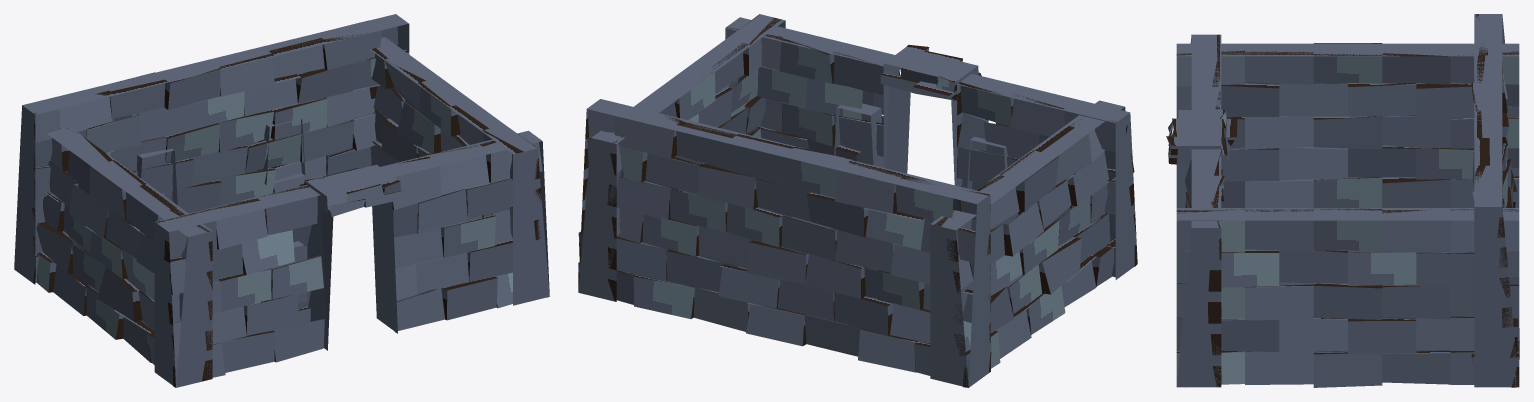
File: RUI-01_Recinto.gltf
3 renders of one model, left to right at view 1: azimuth 30°, elevation 25°; view 2: azimuth 150°, elevation 25°; view 3: azimuth 270°, elevation 25°, orthographic. The views are drawn at different scales.
Visible parts, largest first — view 1: RUI-01_Recinto-col; view 2: RUI-01_Recinto-col; view 3: RUI-01_Recinto-col.
Boxes of the visible parts, x1,y1,x2,y2 form: RUI-01_Recinto-col: (14, 14, 549, 387); RUI-01_Recinto-col: (578, 14, 1137, 387); RUI-01_Recinto-col: (1166, 14, 1519, 387).
Size of the model in its own units: 5.62 by 2.45 by 4.33.
Materials: 1 (1 with a texture image).
